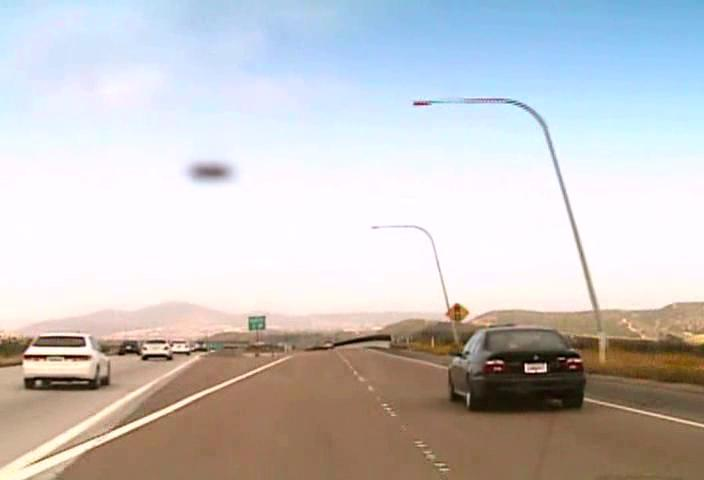signalAhead: (444, 301, 469, 325)
